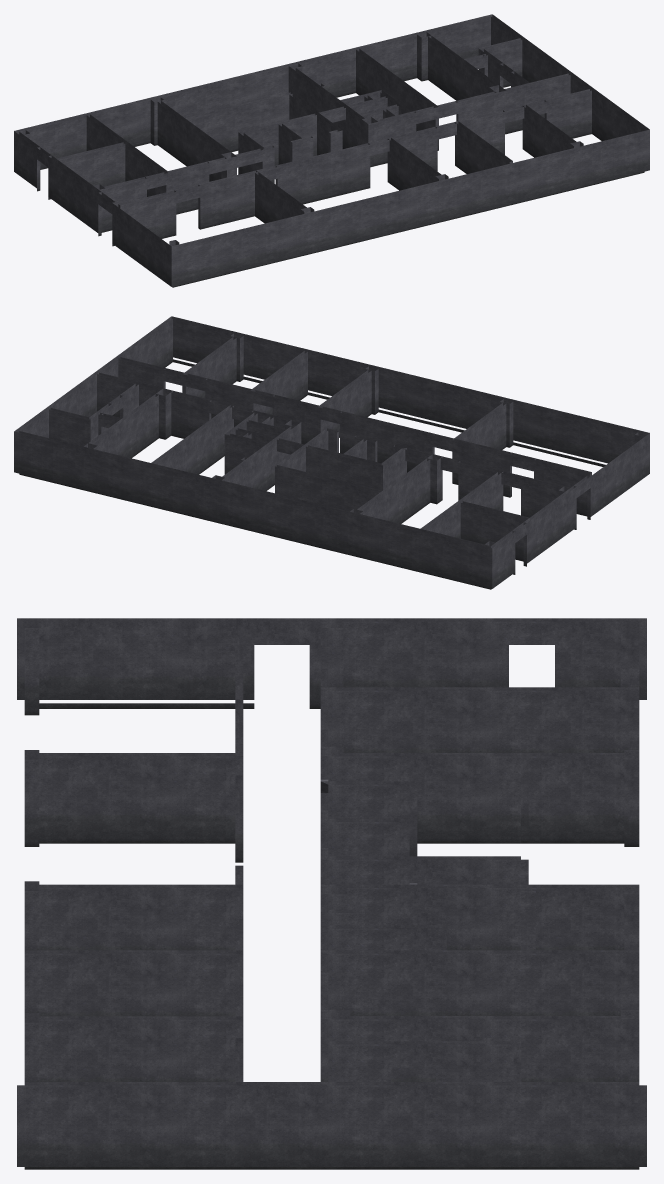
File: 4f墙体.glb
3 renders of one model, top to bottom at view 1: azimuth 30°, elevation 25°; view 2: azimuth 150°, elevation 25°; view 3: azimuth 270°, elevation 25°, orthographic. The views are drawn at different scales.
Visible parts, largest first — view 1: 4f墙体; view 2: 4f墙体; view 3: 4f墙体.
Part boxes in pixels (x1,y1,x2,y2): 4f墙体: [14, 14, 649, 287]; 4f墙体: [14, 316, 649, 589]; 4f墙体: [17, 618, 646, 1169].
Bounding box in the file's own units: 3437 × 300 × 1961.
Materials: 1 (1 with a texture image).
